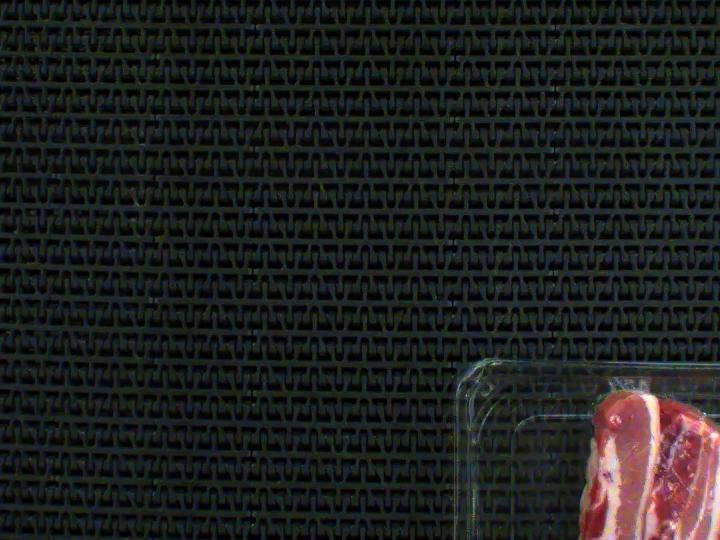packaging-error: (560, 335, 665, 409)
